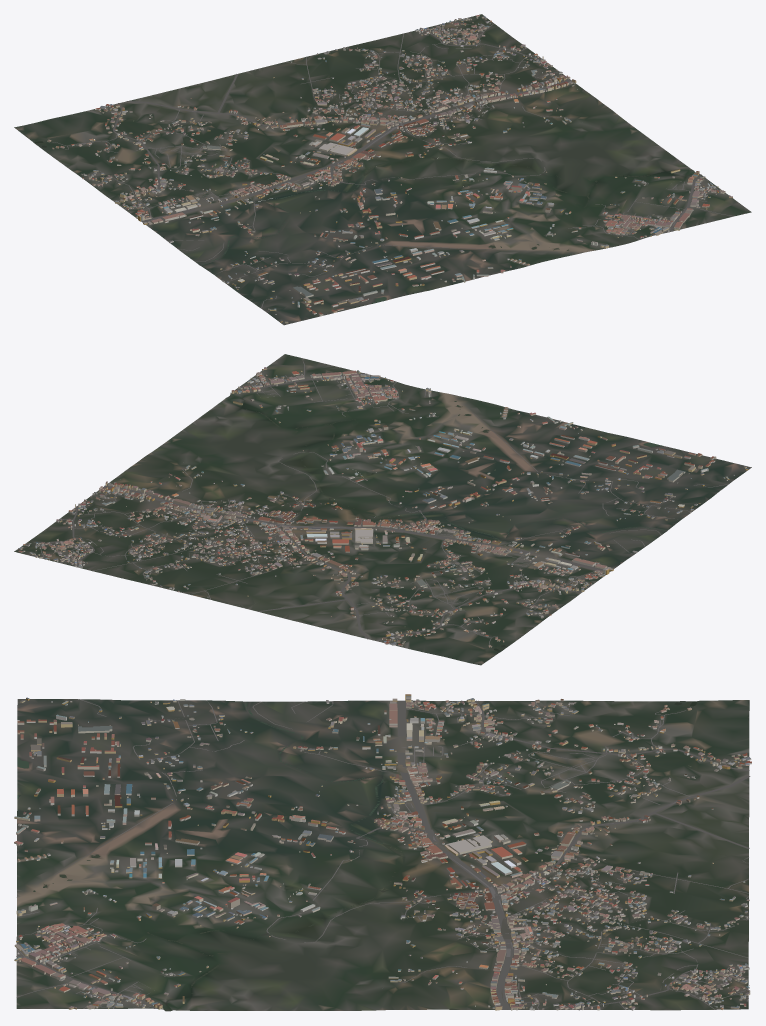
3 views of the same model, one above another, from view 1: azimuth 30°, elevation 25°; view 2: azimuth 150°, elevation 25°; view 3: azimuth 270°, elevation 25° (orthographic). The views are drawn at different scales.
Parts seen in each view (by area): view 1: ground, buildings, roads, water; view 2: ground, buildings, roads, water; view 3: ground, buildings, roads, water.
Part boxes in pixels (x1,y1,x2,y2): ground: (14, 14, 751, 325); buildings: (47, 15, 732, 323); roads: (52, 17, 733, 308); water: (35, 120, 692, 303); ground: (14, 354, 751, 665); buildings: (18, 367, 748, 647); roads: (17, 361, 728, 645); water: (229, 396, 665, 651); ground: (16, 699, 749, 1011); buildings: (14, 694, 751, 1010); roads: (16, 699, 750, 1010); water: (17, 701, 697, 1010).
Size of the model in its own units: 2810 by 39.68 by 2827.
